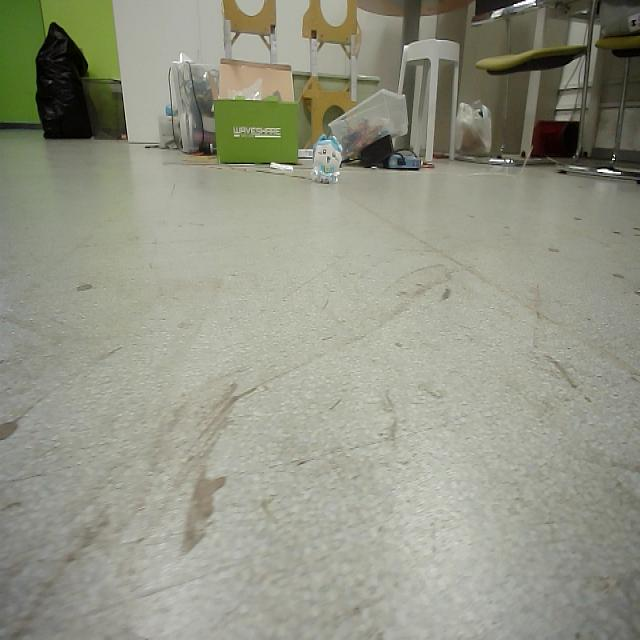xiaoba: (314, 130, 344, 186)
